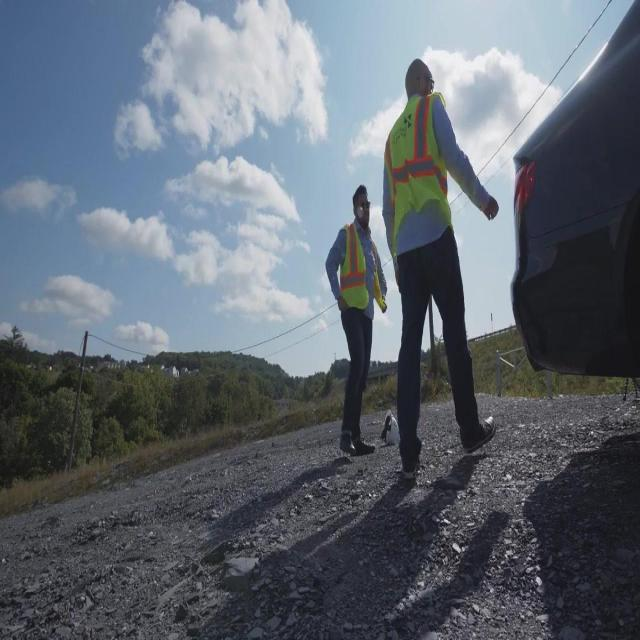Reflective-Jacket: (377, 91, 463, 252), (328, 220, 388, 324)
